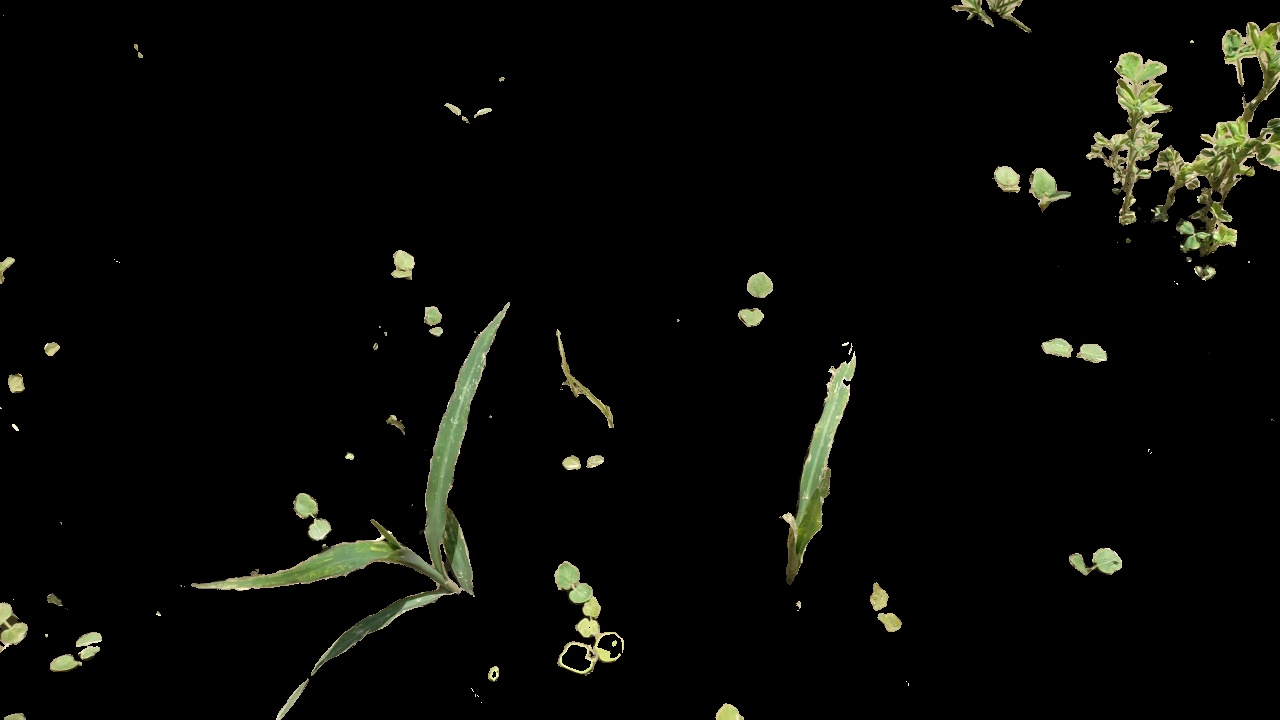crop: (180, 502, 488, 648), (404, 308, 523, 606), (777, 340, 868, 585)
weed: (1081, 16, 1280, 286), (535, 552, 632, 683), (991, 153, 1064, 222), (41, 625, 115, 675), (948, 1, 1035, 35), (738, 267, 778, 339), (863, 576, 909, 635), (1035, 337, 1118, 368), (289, 493, 334, 545), (1069, 539, 1123, 581), (436, 97, 500, 132), (554, 443, 610, 473), (386, 245, 425, 287), (1, 591, 26, 655), (415, 311, 456, 340)
